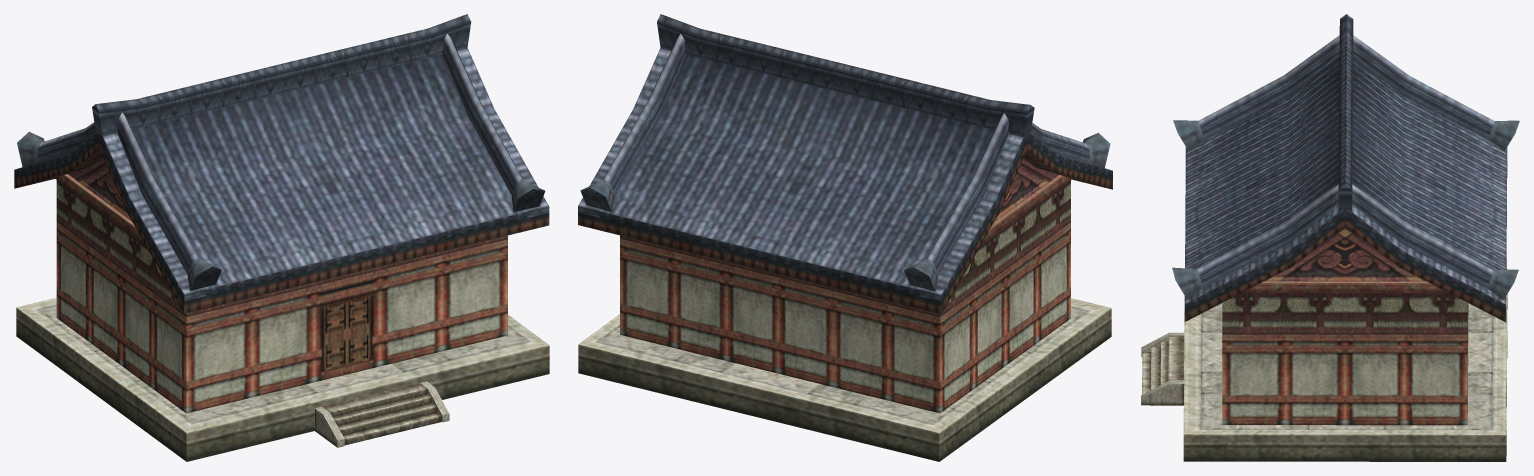
The model's file is house003.FBX.
3 views of the same model, side by side, from view 1: azimuth 30°, elevation 25°; view 2: azimuth 150°, elevation 25°; view 3: azimuth 270°, elevation 25° (orthographic). The views are drawn at different scales.
Parts seen in each view (by area): view 1: house003; view 2: house003; view 3: house003.
Part boxes in pixels (x1=…): house003: x1=14, y1=14, x2=549, y2=461; house003: x1=578, y1=14, x2=1112, y2=461; house003: x1=1141, y1=14, x2=1519, y2=461.
Size of the model in its own units: 162 by 123 by 152.
